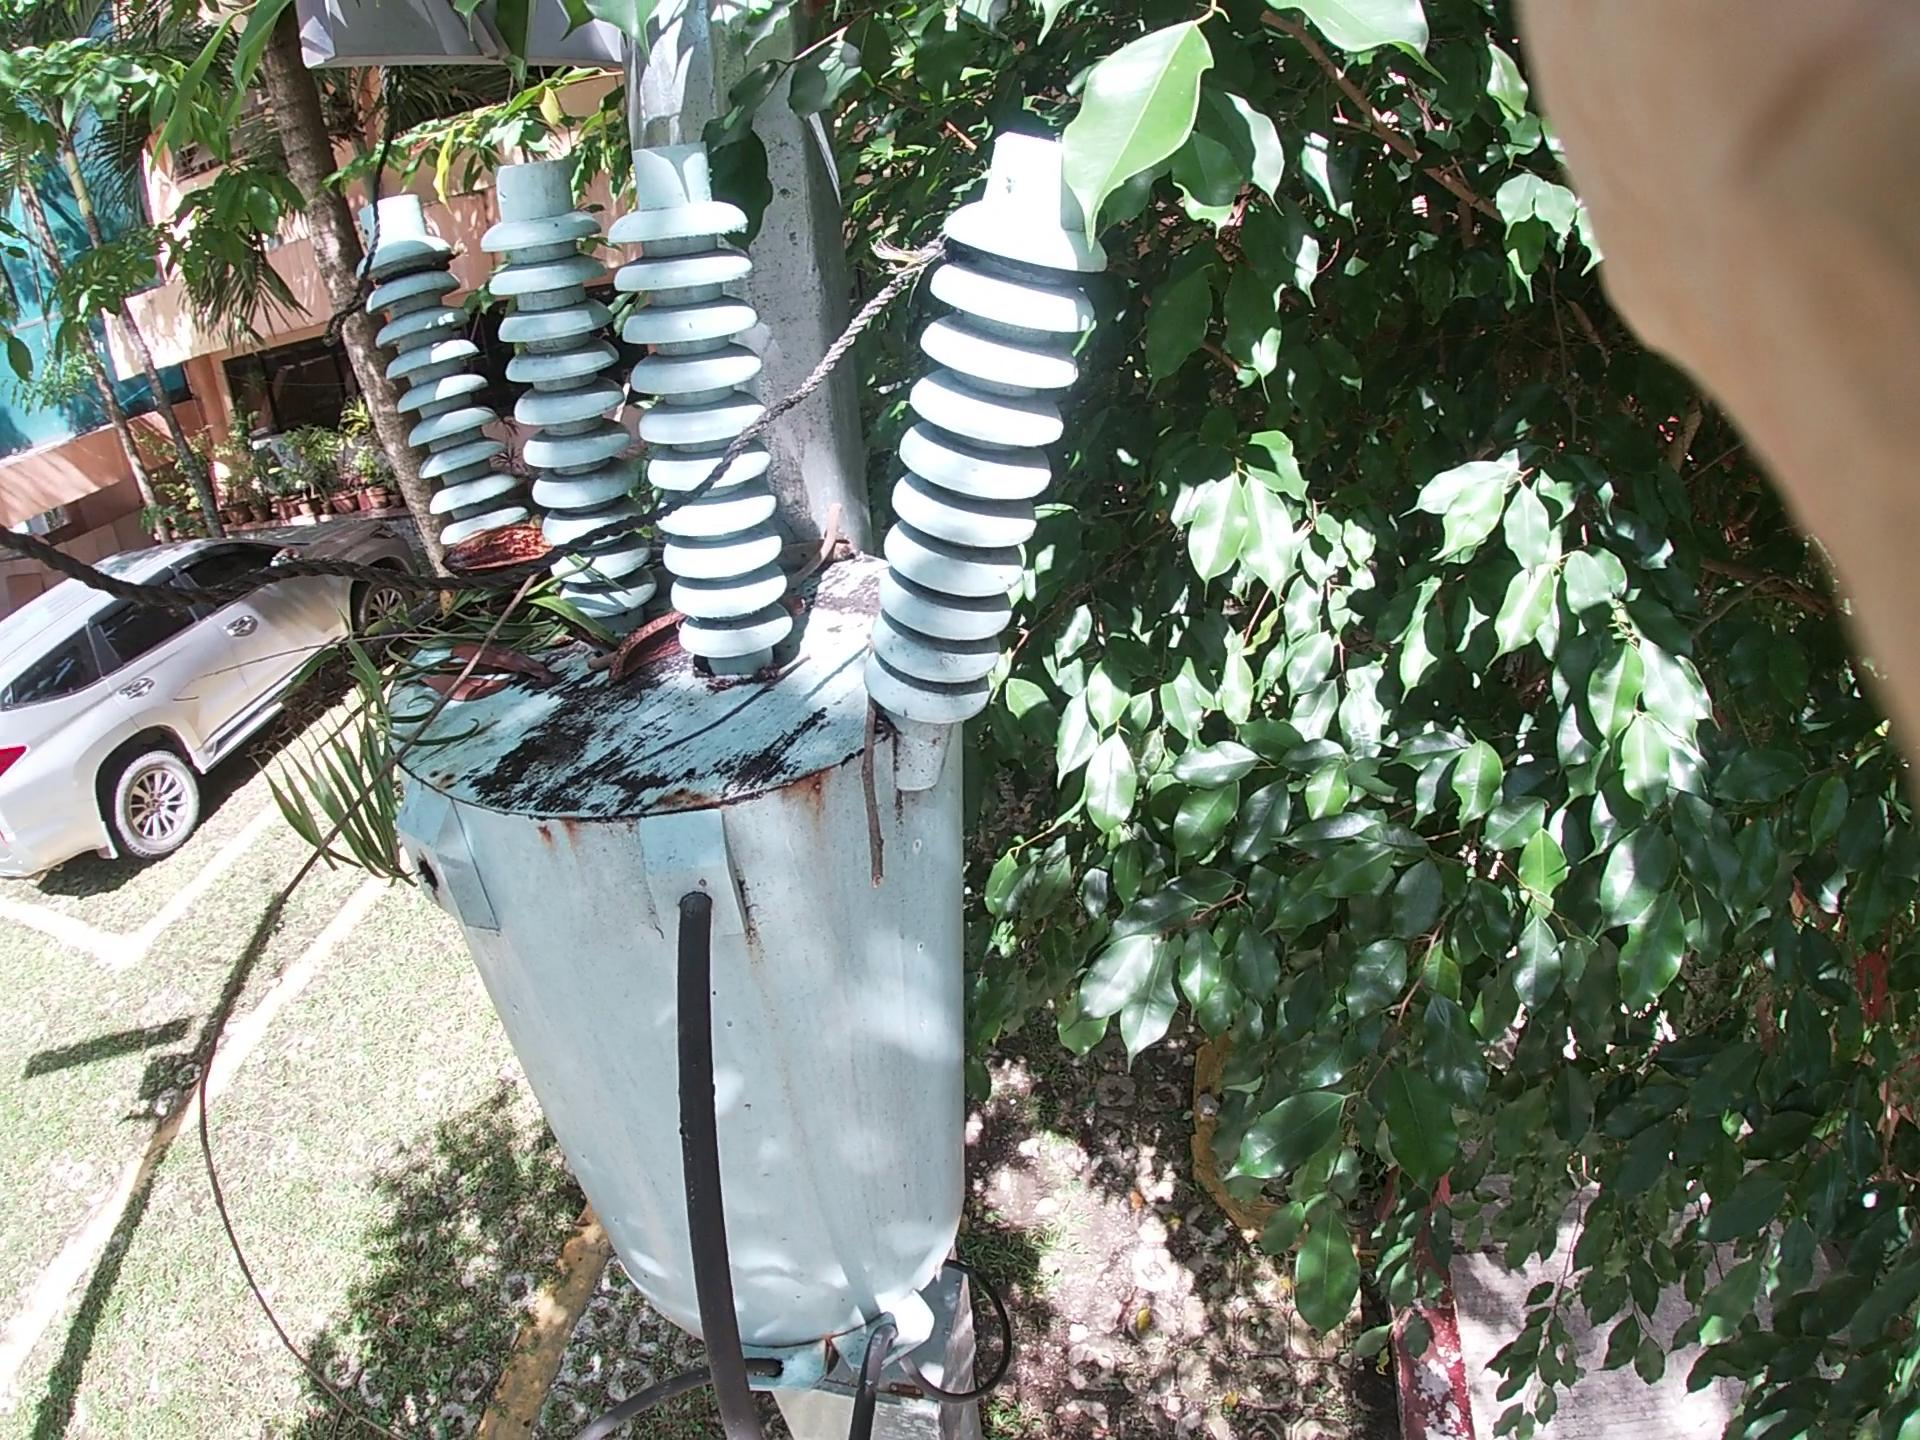branch with leaves: (364, 522, 697, 750)
leaf: (425, 616, 553, 717)
mahogany fruit: (602, 545, 726, 697), (441, 495, 547, 607)
tree branch: (101, 502, 605, 1190), (597, 551, 901, 681), (862, 551, 884, 923)
